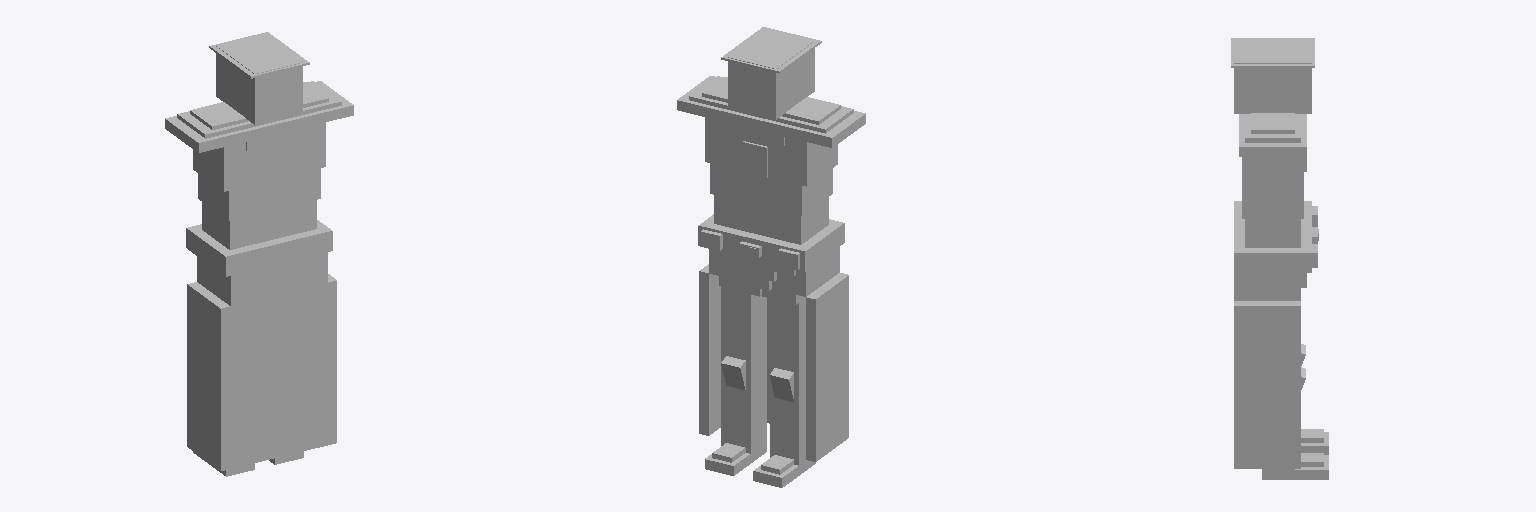
Rendered from darthvader.obj.
3 views of the same model, side by side, from view 1: azimuth 30°, elevation 25°; view 2: azimuth 150°, elevation 25°; view 3: azimuth 270°, elevation 25° (orthographic).
Visible parts, largest first — view 1: cube; view 2: cube; view 3: cube.
Boxes of the visible parts, x1=… form: cube: x1=165, y1=32, x2=353, y2=476; cube: x1=677, y1=27, x2=865, y2=487; cube: x1=1231, y1=38, x2=1328, y2=479.
Bounding box in the file's own units: 1 × 2.52 × 0.5469.